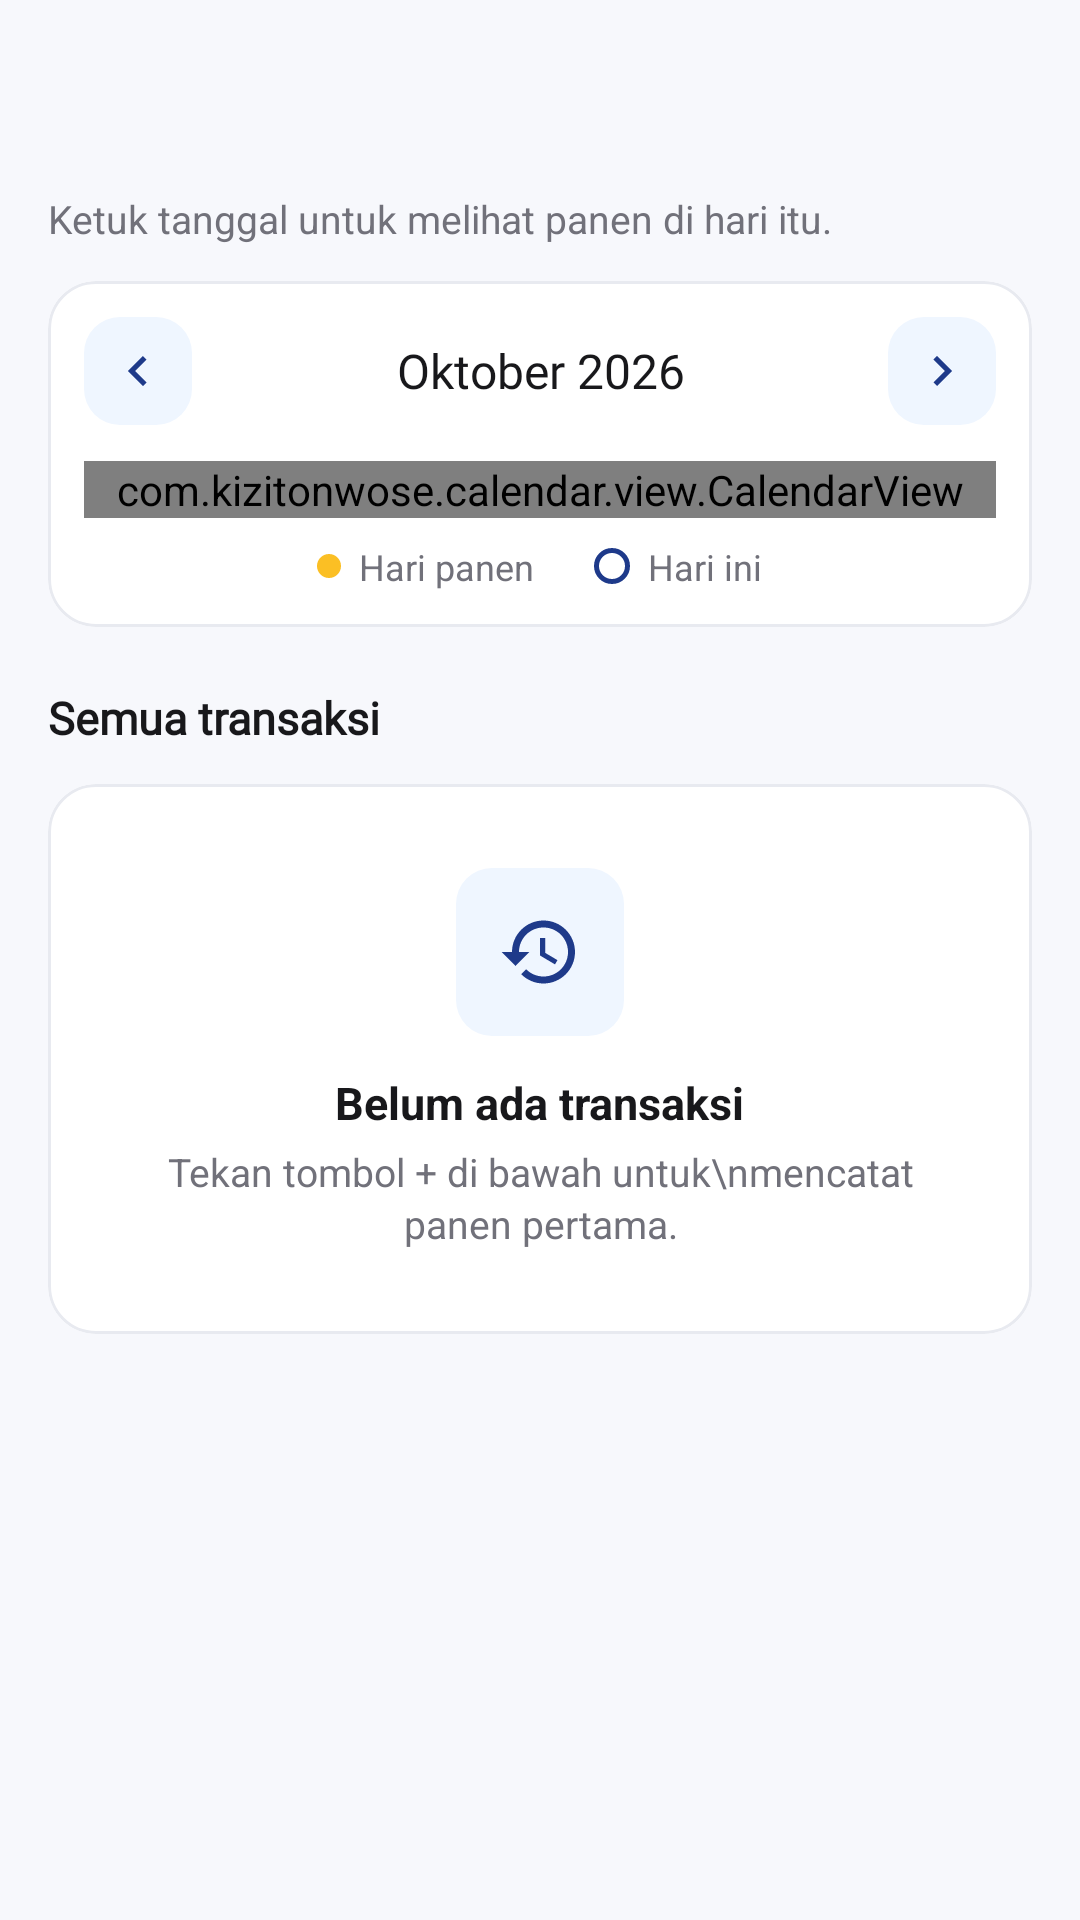

Named icons in this screenshot (1080×1920) and their bounding boxes, (x1, y1, x2, y2):
Bulan berikutnya: (888, 317, 996, 425)
riwayat: (456, 868, 624, 1036)
